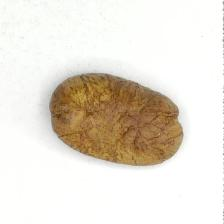NG: (58, 77, 169, 160)
